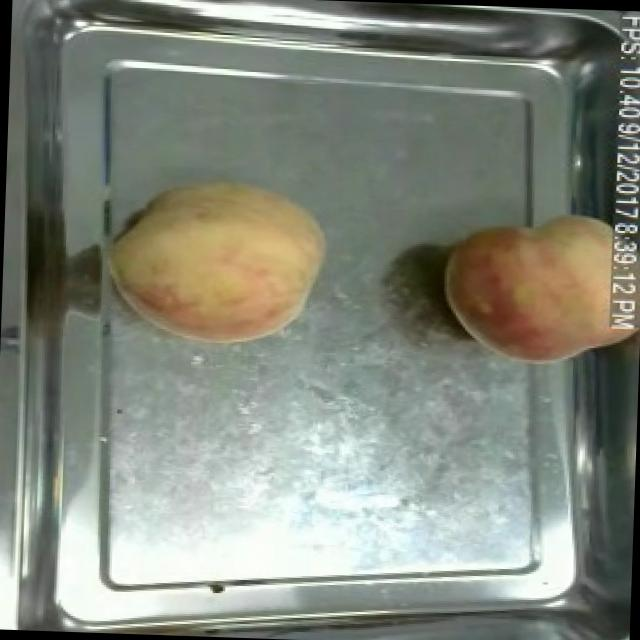Fruit: (103, 166, 335, 354), (432, 208, 614, 376)
